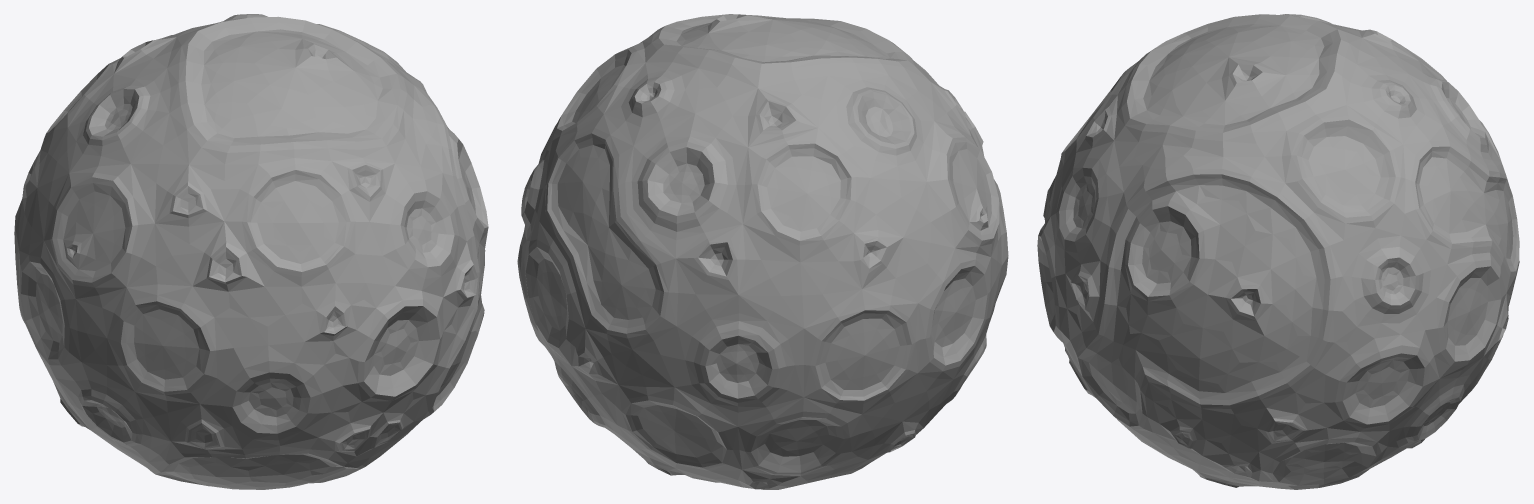
Rendered from cubo9.gltf.
3 views of the same model, side by side, from view 1: azimuth 30°, elevation 25°; view 2: azimuth 150°, elevation 25°; view 3: azimuth 270°, elevation 25° (orthographic).
Visible parts, largest first — view 1: Moon; view 2: Moon; view 3: Moon.
Boxes of the visible parts, x1,y1,x2,y2 form: Moon: (14, 14, 488, 489); Moon: (517, 14, 1008, 489); Moon: (1037, 14, 1519, 489).
Bounding box in the file's own units: 0.8065 × 0.8037 × 0.8252.
1 material, 1 textured.
